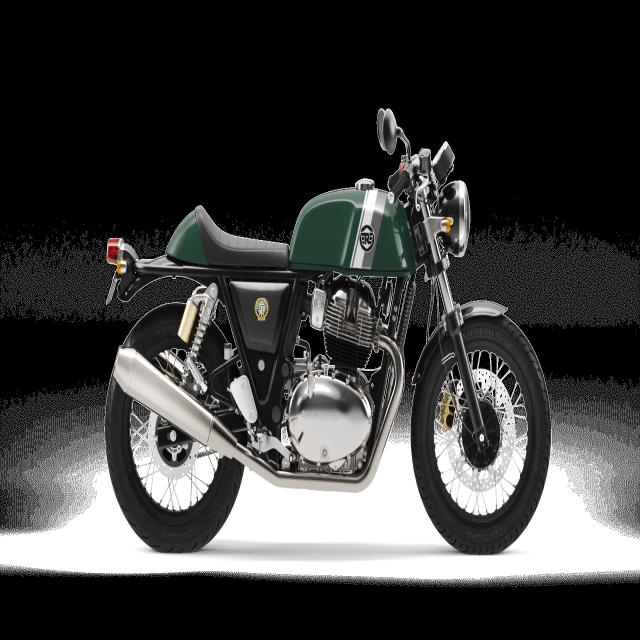motorcycle: (105, 109, 551, 553)
